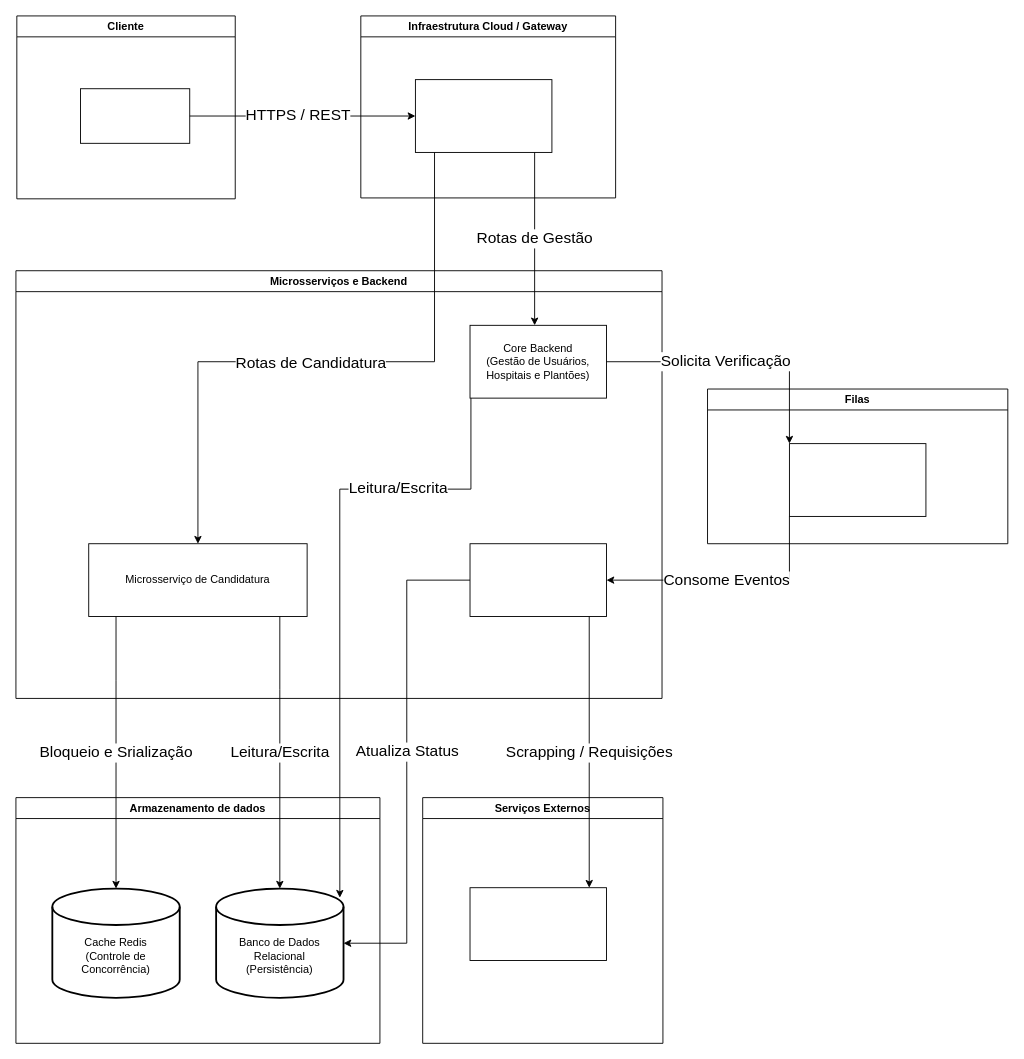
Some shapes in this 1024 by 1059 pixel diagram are drawn without their labels. Each missing label, with the centre of its shape:
"APIs do JusBrasil e Escavador" goes at point 538,924.
"Fila de Espera (Filas para Scraping)" goes at point 857,479.
"Frontend Web (React, TypeScript)" goes at point 135,115.
"Load Balancer / Gateway (AWS, Cloudflare)" goes at point 483,115.
"Modulo de Consultas Externas (Scraping Assíncrono)" goes at point 538,580.
